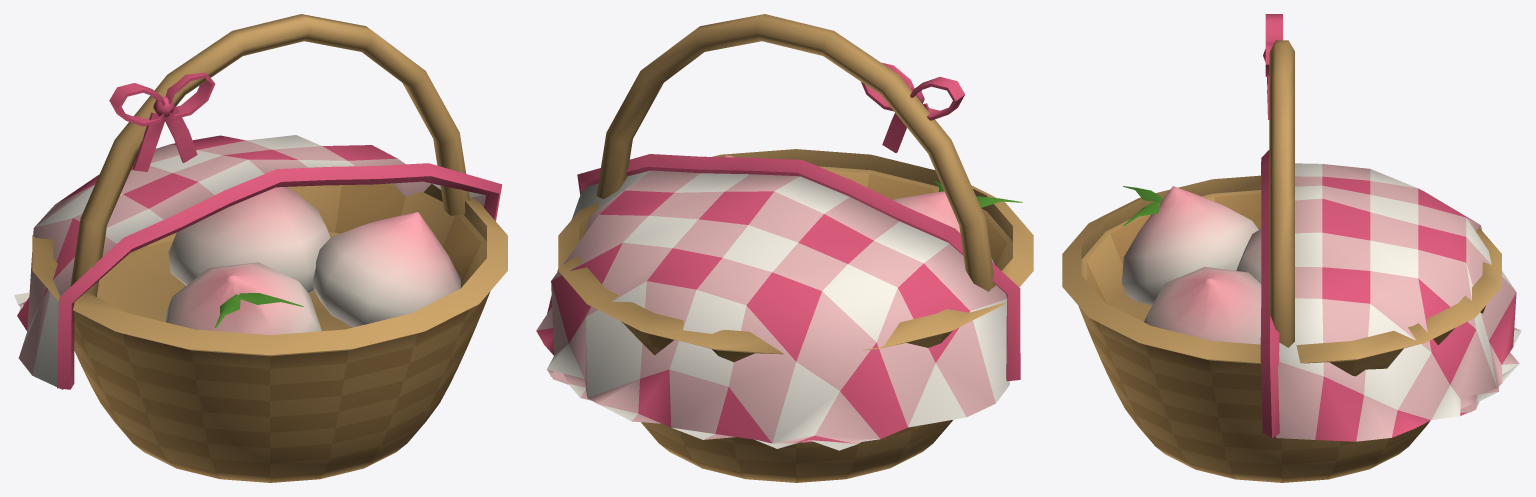
File: gift-buns.glb
3 renders of one model, left to right at view 1: azimuth 30°, elevation 25°; view 2: azimuth 150°, elevation 25°; view 3: azimuth 270°, elevation 25°, orthographic. The views are drawn at different scales.
Parts seen in each view (by area): view 1: Gift buns Wicker, Gift buns Gingham, Gift buns Bun, Gift buns Bun leaf; view 2: Gift buns Gingham, Gift buns Wicker, Gift buns Bun; view 3: Gift buns Gingham, Gift buns Wicker, Gift buns Bun, Gift buns Bun leaf.
Part boxes in pixels (left/top/right/bottom): Gift buns Wicker: left=32, top=14, right=507, bottom=482; Gift buns Gingham: left=14, top=72, right=502, bottom=389; Gift buns Bun: left=165, top=187, right=460, bottom=334; Gift buns Bun leaf: left=215, top=293, right=303, bottom=327; Gift buns Gingham: left=536, top=62, right=1020, bottom=450; Gift buns Wicker: left=558, top=14, right=1033, bottom=482; Gift buns Bun: left=724, top=154, right=994, bottom=264; Gift buns Gingham: left=1260, top=14, right=1521, bottom=441; Gift buns Wicker: left=1062, top=40, right=1501, bottom=482; Gift buns Bun: left=1121, top=186, right=1261, bottom=344; Gift buns Bun leaf: left=1123, top=186, right=1163, bottom=225.
Size of the model in its own units: 0.2462 by 0.2098 by 0.2383.
